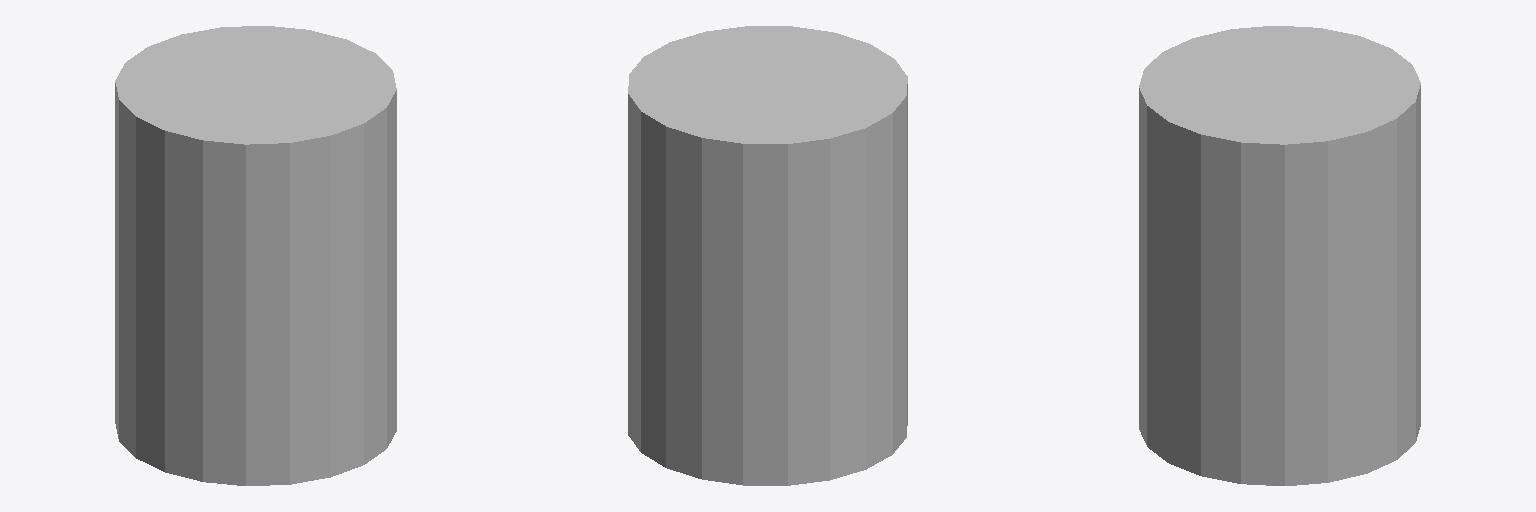
The model's file is explosivebarrel.obj.
The picture shows the model from 3 angles: view 1: azimuth 30°, elevation 25°; view 2: azimuth 150°, elevation 25°; view 3: azimuth 270°, elevation 25°; orthographic projection.
Size of the model in its own units: 2 by 2.67 by 2.